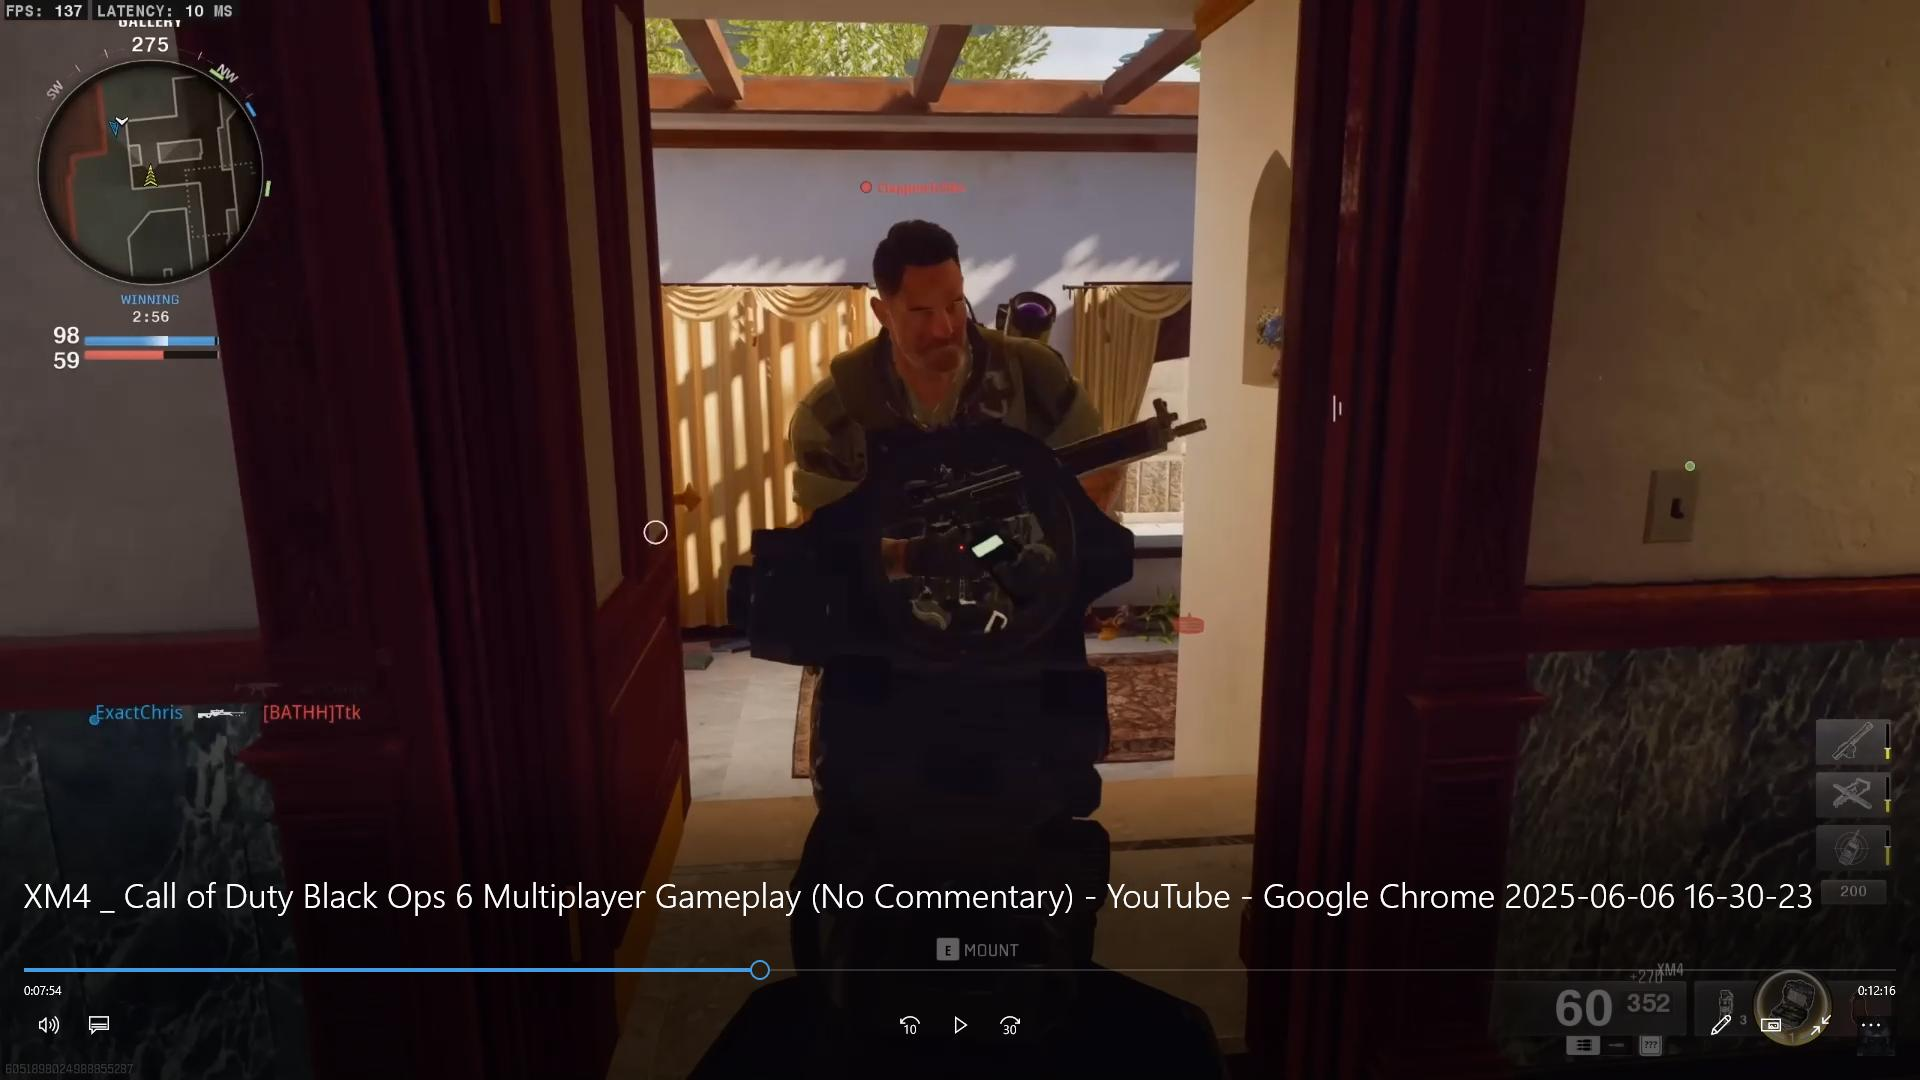Enemy: (828, 153, 1046, 433)
